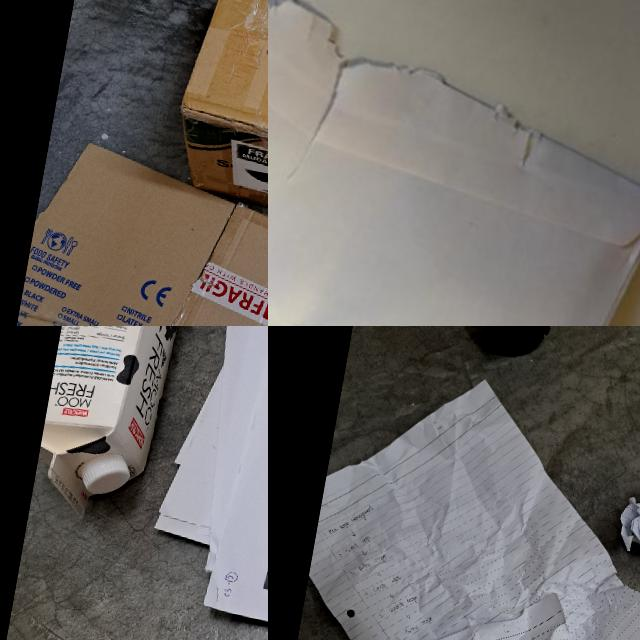caixinha: (29, 326, 207, 529), (78, 450, 132, 500)
papel: (268, 0, 640, 326), (292, 354, 640, 640), (141, 326, 268, 640), (285, 558, 640, 640), (613, 469, 640, 576)
papelão: (2, 135, 268, 326), (169, 0, 268, 231)
